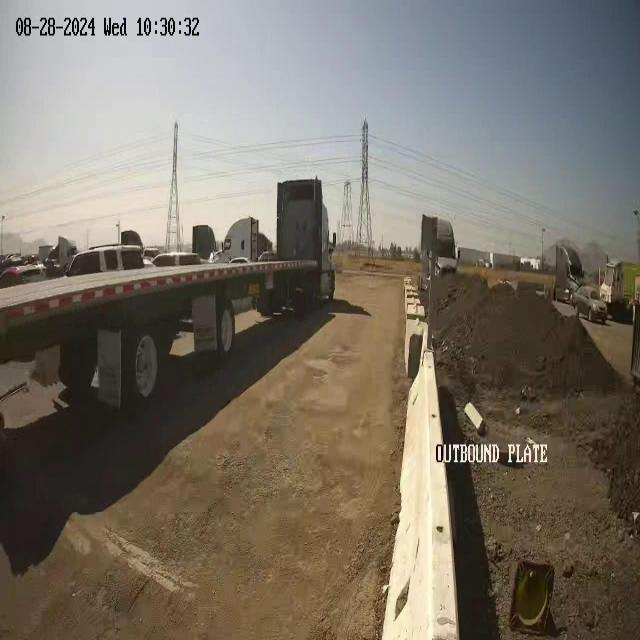TRUCK_IN: (1, 174, 337, 416)
